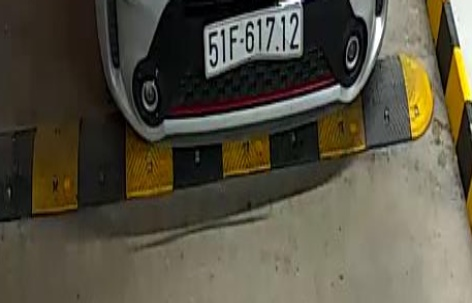plate: (197, 1, 305, 71)
